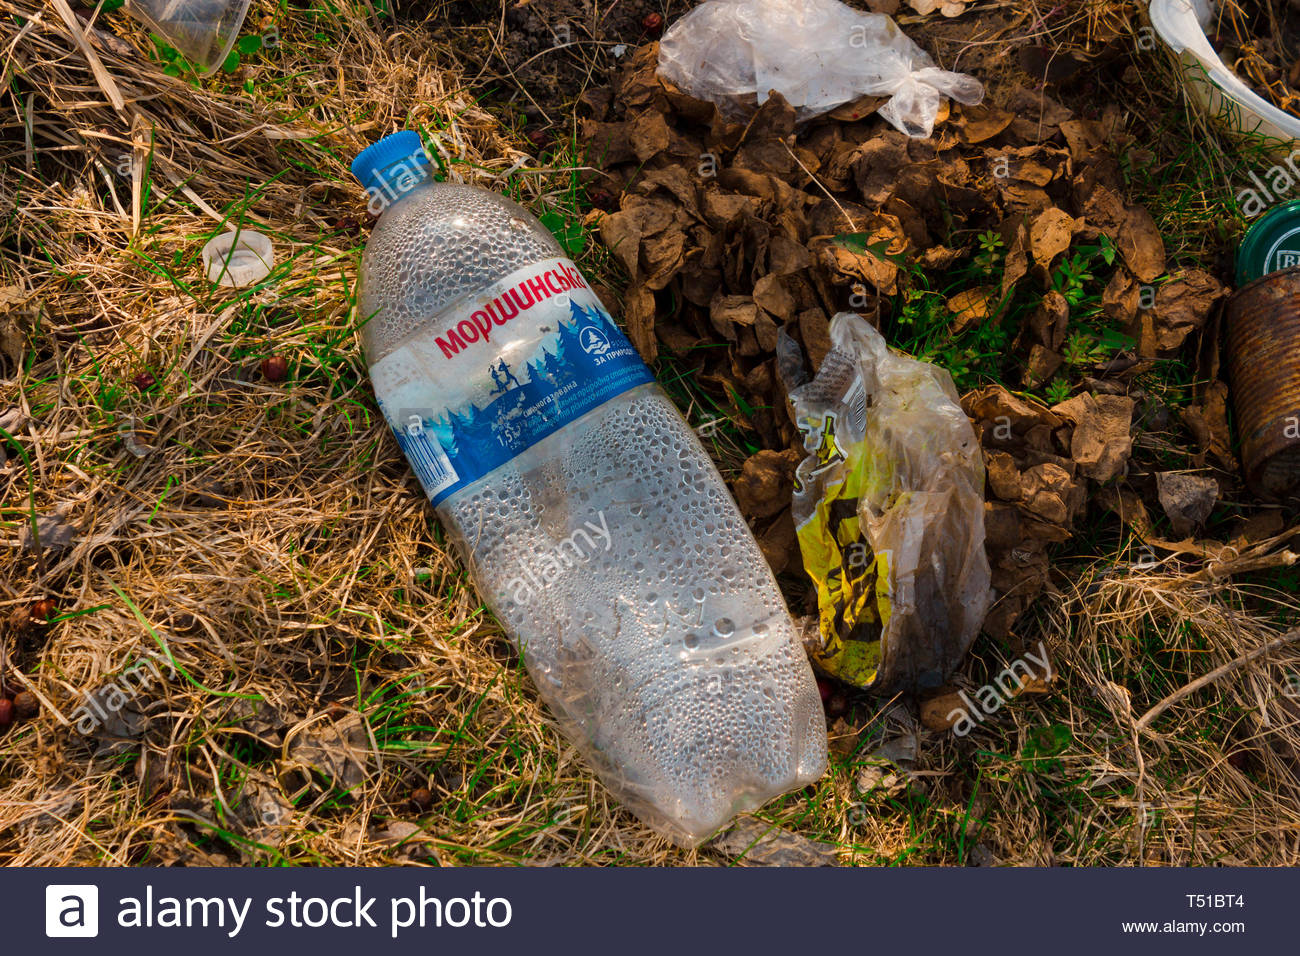plastic_bottle: (218, 61, 1027, 856)
